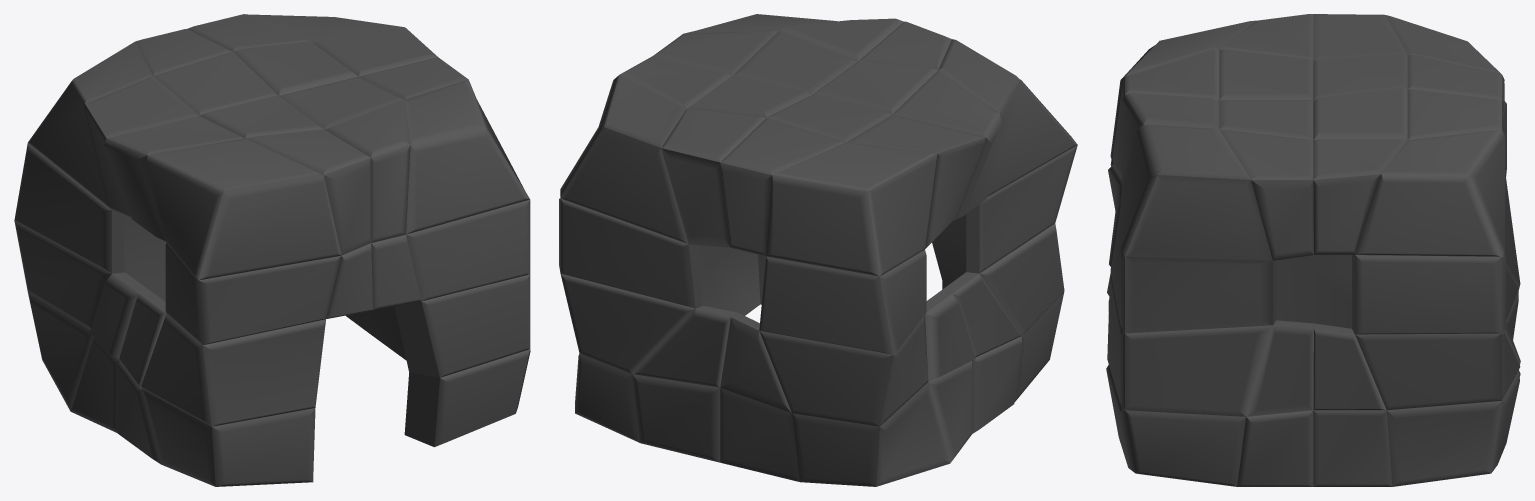
Rendered from Mesh_House_final_Interior_Temple_TL.fbx.
3 views of the same model, side by side, from view 1: azimuth 30°, elevation 25°; view 2: azimuth 150°, elevation 25°; view 3: azimuth 270°, elevation 25° (orthographic). The views are drawn at different scales.
Parts seen in each view (by area): view 1: Mesh_House_final_Interior_Temple_TL; view 2: Mesh_House_final_Interior_Temple_TL; view 3: Mesh_House_final_Interior_Temple_TL.
Part boxes in pixels (box(x1,y1,x2,y2)): Mesh_House_final_Interior_Temple_TL: box(14, 14, 530, 486); Mesh_House_final_Interior_Temple_TL: box(559, 14, 1077, 486); Mesh_House_final_Interior_Temple_TL: box(1106, 14, 1520, 486).
Size of the model in its own units: 666 by 565 by 660.
